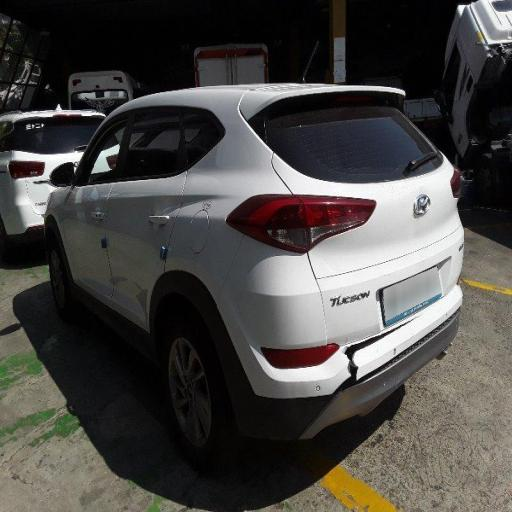broken: (316, 316, 422, 401)
